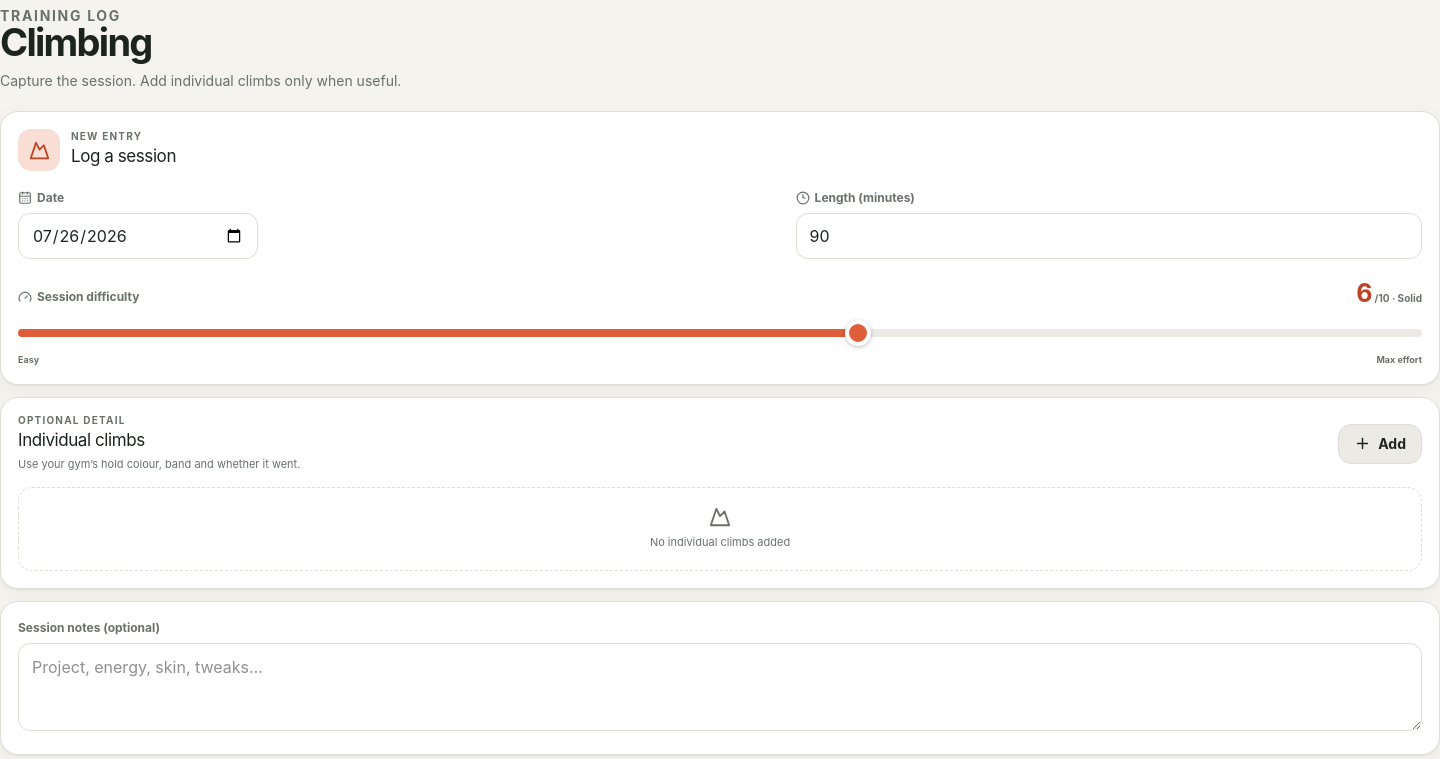
Scenario: climbing log › saves a session with optional gym-grade detail
This screenshot has width=1440, height=759.
Expected: the heading "Climbing" is shown, left=0, top=19, right=152, bottom=65
Replace the text in the number field labelled "Length (minutes)" with "75" at (1109, 236), box left=796, top=213, right=1422, bottom=259
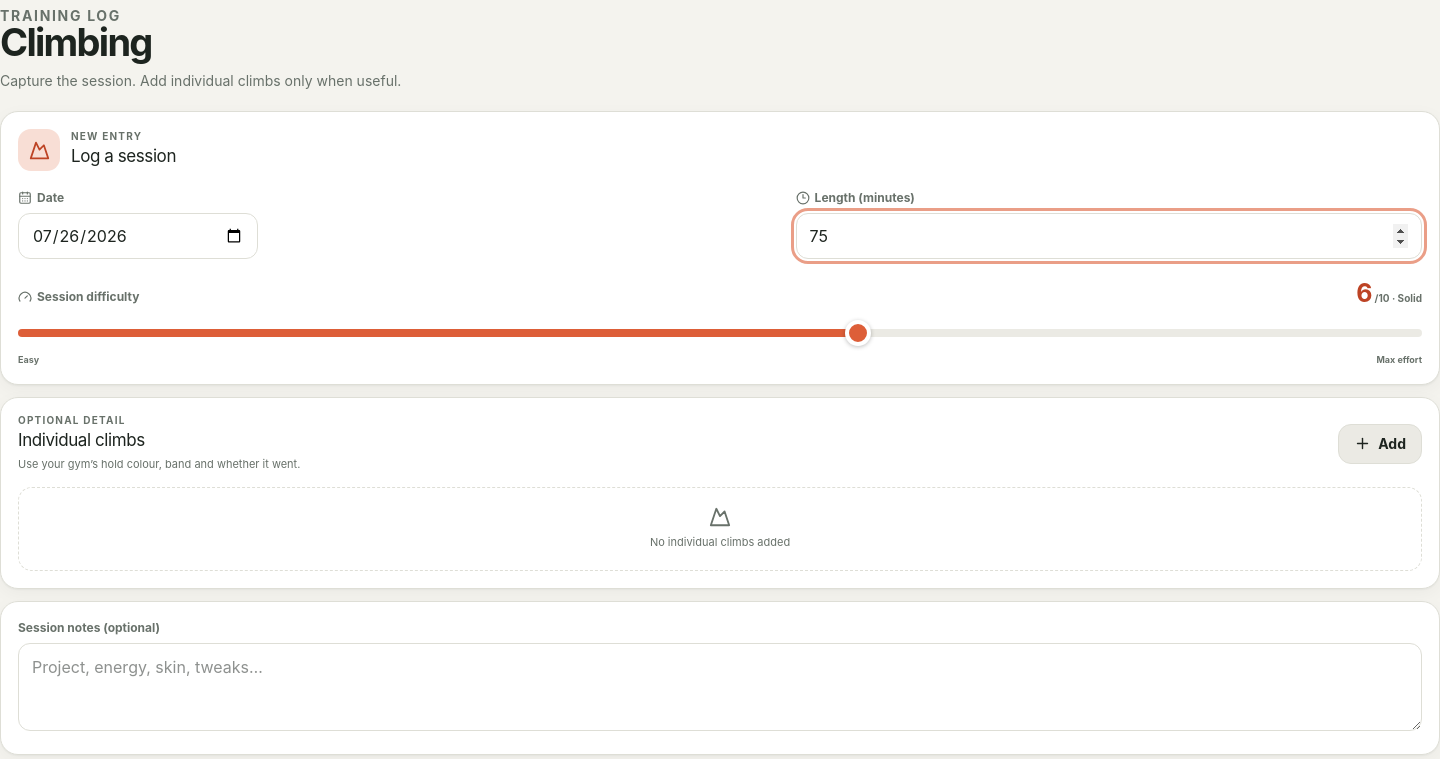
Click the button "Add" at (1380, 444), box left=1338, top=424, right=1422, bottom=464
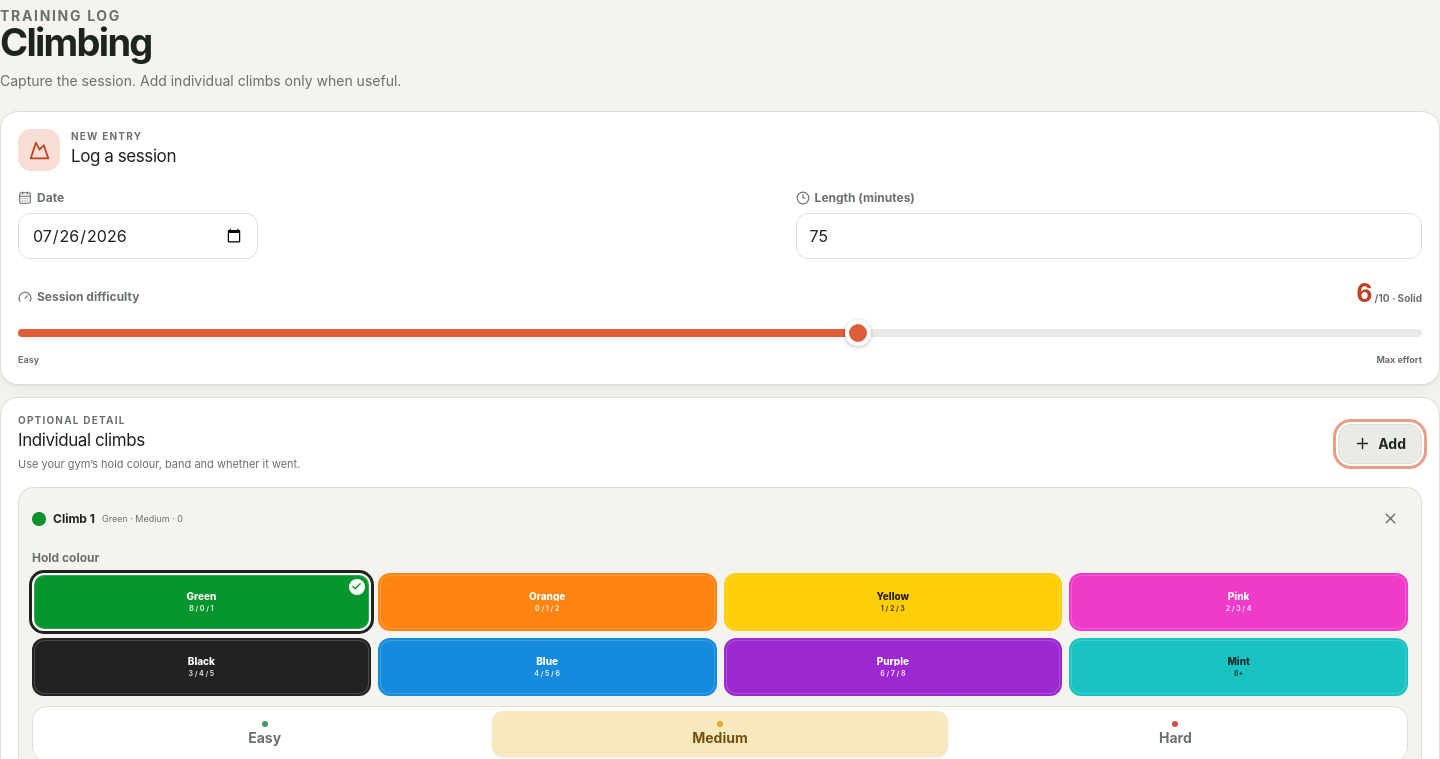
Click the radio button labelled "Blue 4 / 5 / 6" at (547, 667), box left=378, top=638, right=717, bottom=696
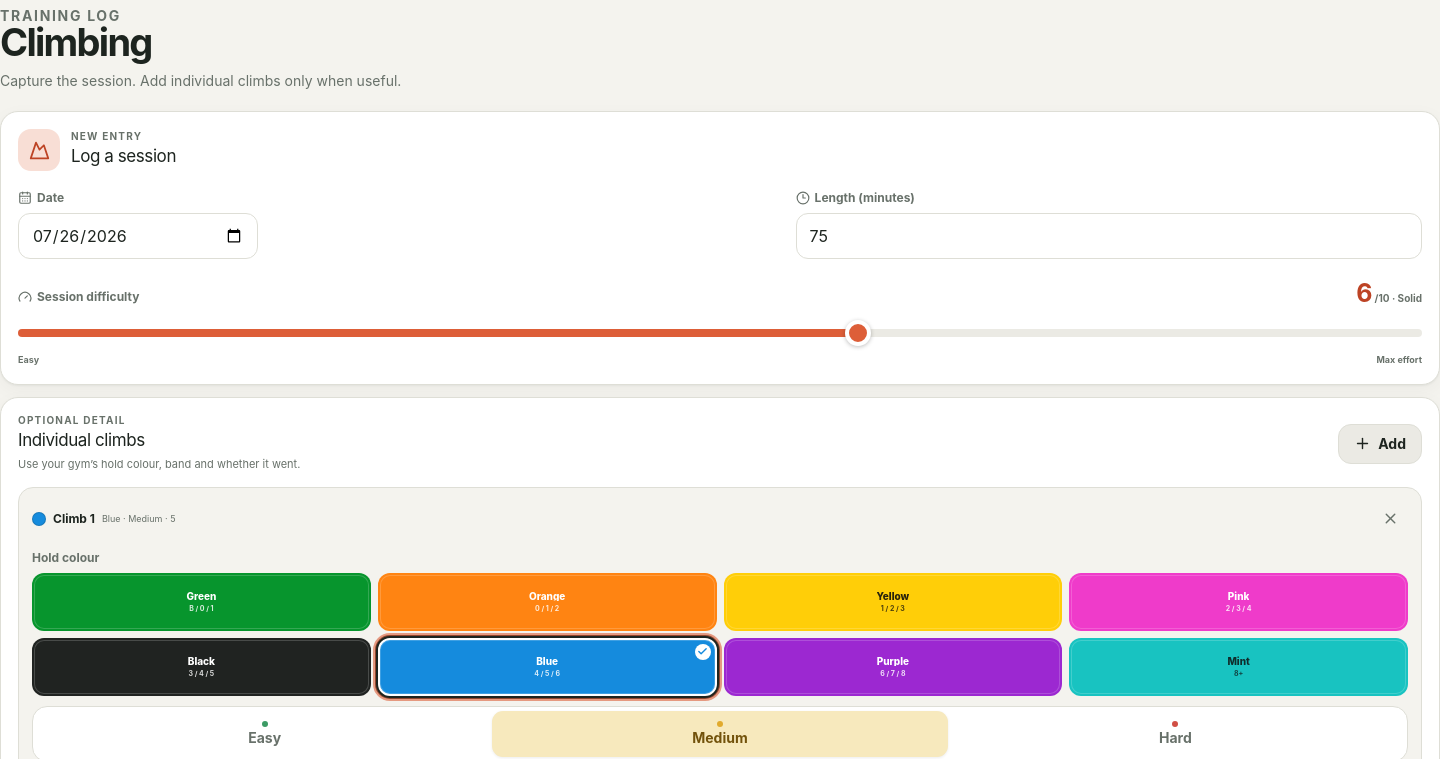
Click the radio button labelled "Hard" at (1175, 734), box left=948, top=711, right=1403, bottom=757
(page scrolled)
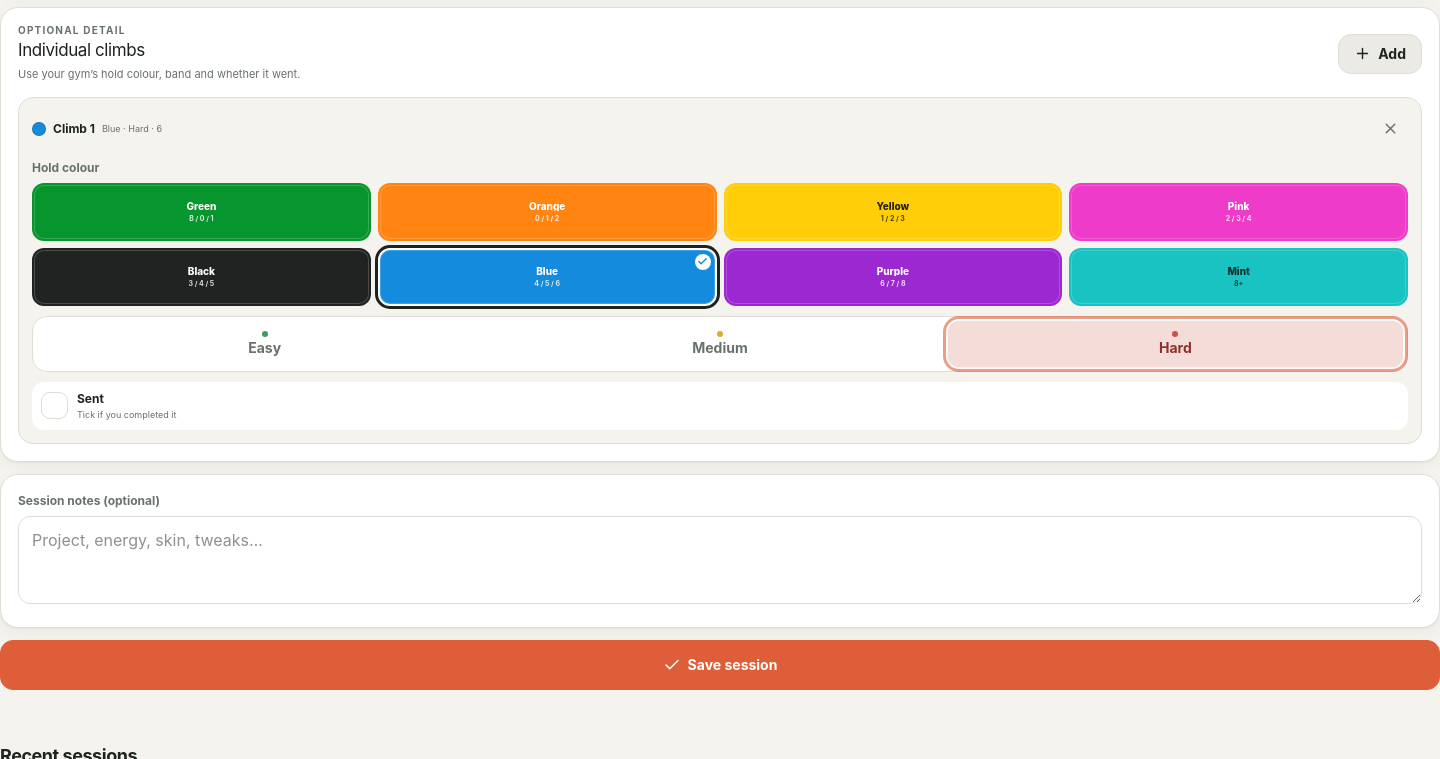
Click the checkbox labelled "Sent Tick if you completed it" at (127, 414), box left=32, top=382, right=1408, bottom=430
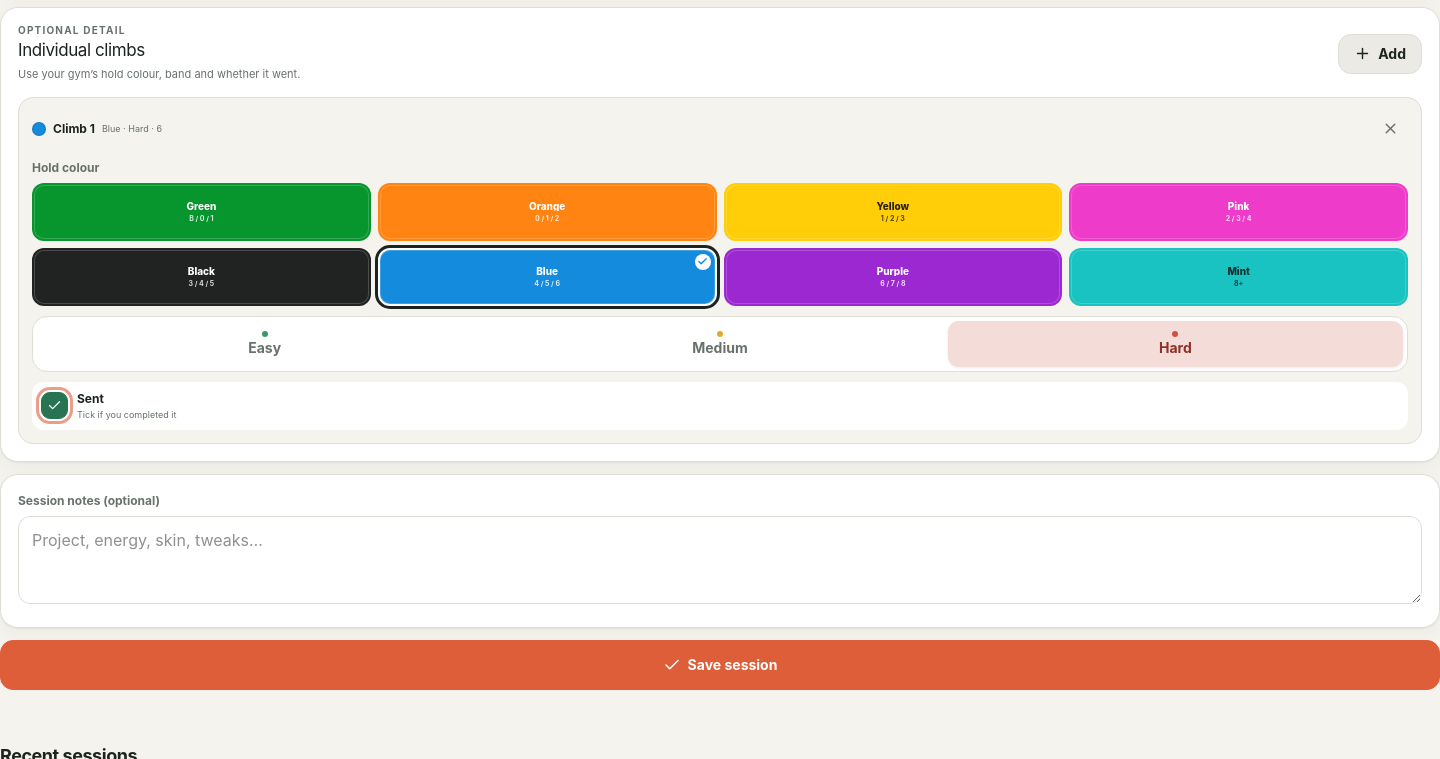
Click the button "Save session" at (720, 665), box left=0, top=640, right=1439, bottom=690
(page scrolled)
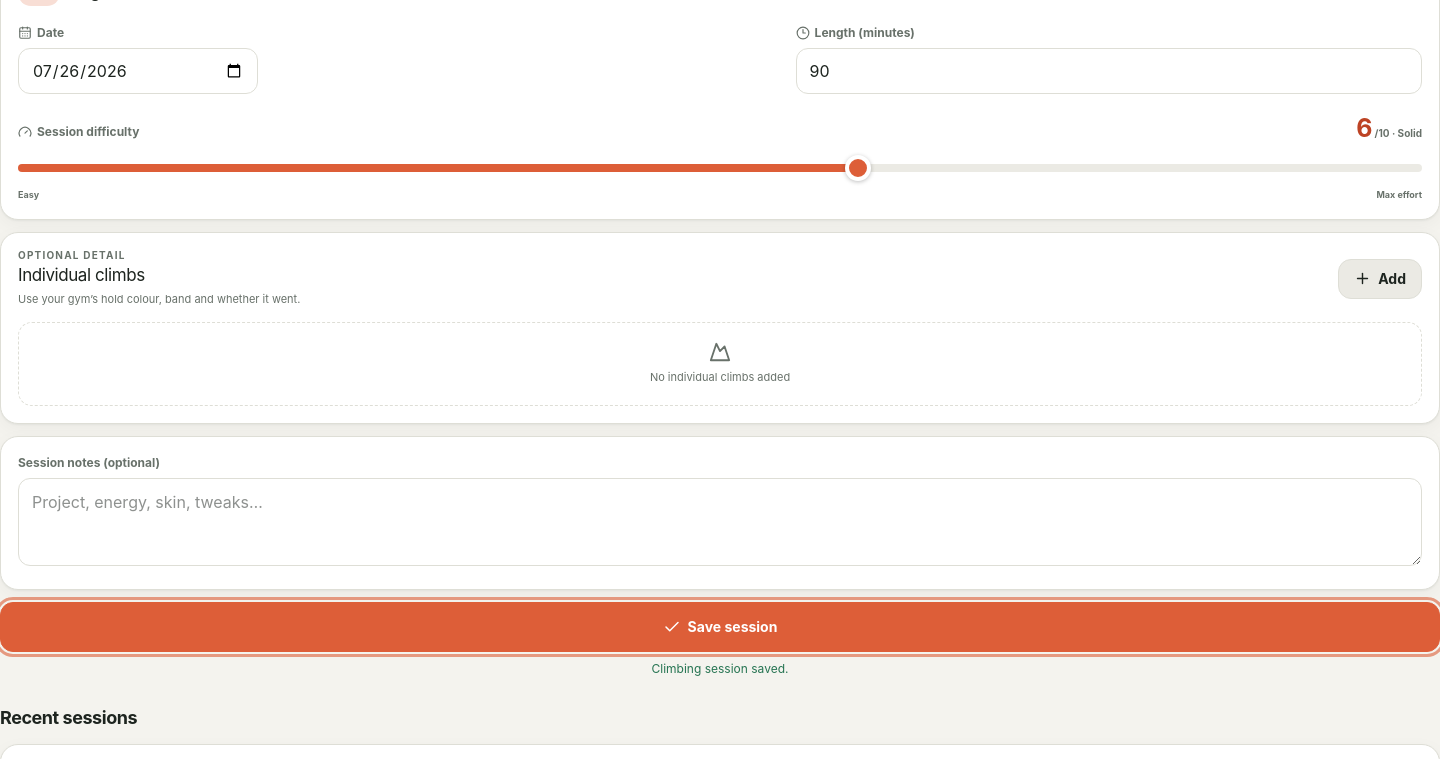
Expected: the text "Climbing session saved." is shown, left=652, top=661, right=788, bottom=676
